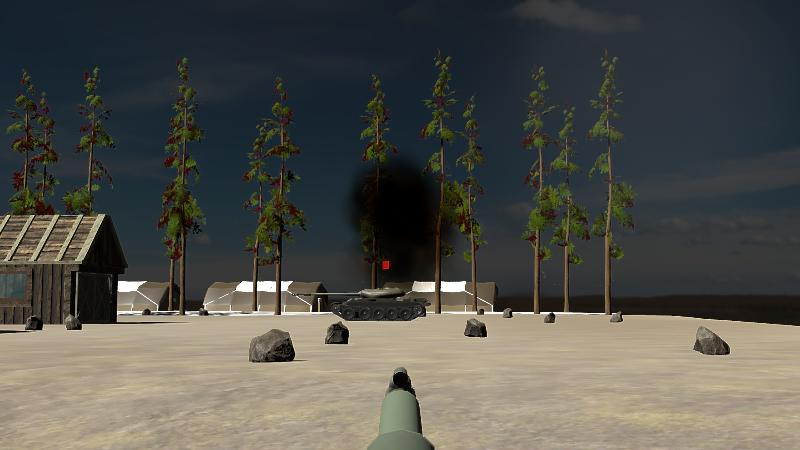House: (0, 212, 125, 322)
Tank: (300, 286, 431, 322)
